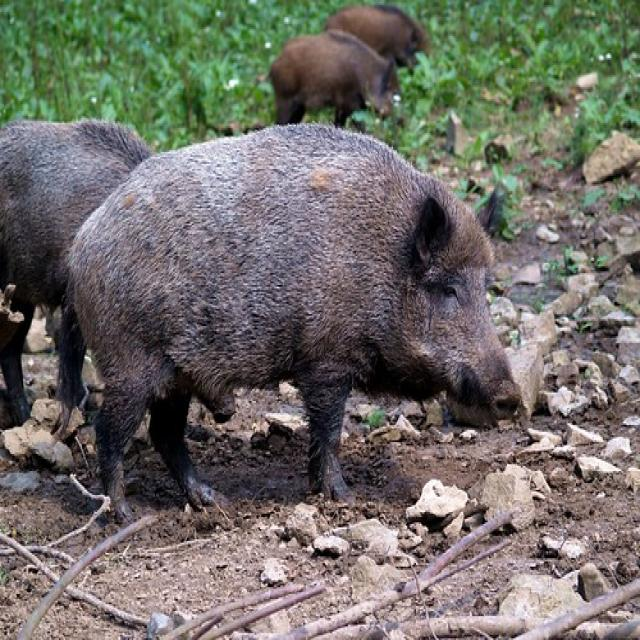boar: (63, 120, 534, 531), (0, 110, 242, 461), (258, 33, 408, 123), (309, 0, 447, 72)
